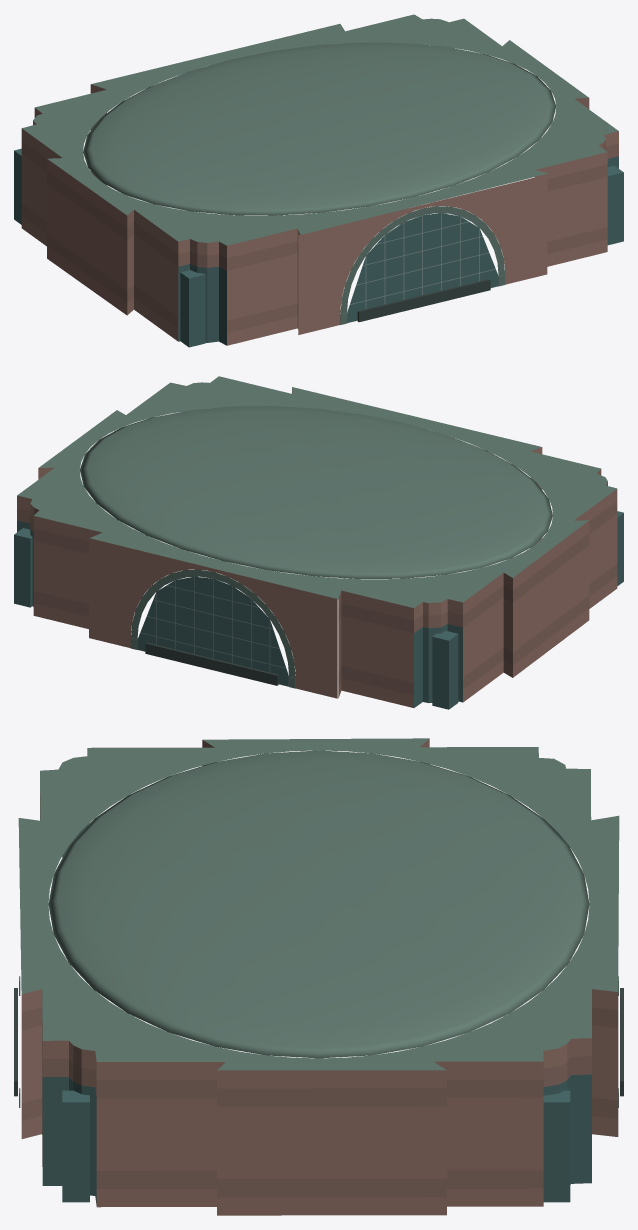
File: honda-center-far.glb
3 renders of one model, top to bottom at view 1: azimuth 30°, elevation 25°; view 2: azimuth 150°, elevation 25°; view 3: azimuth 270°, elevation 25°, orthographic. The views are drawn at different scales.
Visible parts, largest first — view 1: honda-center-0-roof, honda-center-0-stone, honda-center-0-glass, honda-center-0-course, honda-center-0-dark, honda-center-0-metal; view 2: honda-center-0-roof, honda-center-0-stone, honda-center-0-glass, honda-center-0-course, honda-center-0-dark, honda-center-0-metal; view 3: honda-center-0-roof, honda-center-0-stone, honda-center-0-course, honda-center-0-glass, honda-center-0-dark.
Boxes of the visible parts, bbox=[...] form: honda-center-0-roof: bbox=[22, 14, 618, 324]; honda-center-0-stone: bbox=[21, 84, 618, 345]; honda-center-0-glass: bbox=[14, 47, 623, 347]; honda-center-0-course: bbox=[21, 113, 618, 333]; honda-center-0-dark: bbox=[357, 279, 490, 322]; honda-center-0-metal: bbox=[348, 213, 498, 322]; honda-center-0-roof: bbox=[17, 376, 616, 688]; honda-center-0-stone: bbox=[17, 389, 617, 707]; honda-center-0-glass: bbox=[14, 511, 623, 709]; honda-center-0-course: bbox=[17, 501, 617, 695]; honda-center-0-dark: bbox=[145, 642, 278, 685]; honda-center-0-metal: bbox=[137, 577, 288, 686]; honda-center-0-roof: bbox=[18, 738, 619, 1107]; honda-center-0-stone: bbox=[21, 738, 618, 1215]; honda-center-0-course: bbox=[21, 763, 618, 1197]; honda-center-0-glass: bbox=[42, 819, 591, 1205]; honda-center-0-dark: bbox=[14, 988, 623, 1096].
Bounding box in the file's own units: 142 × 33 × 110.
